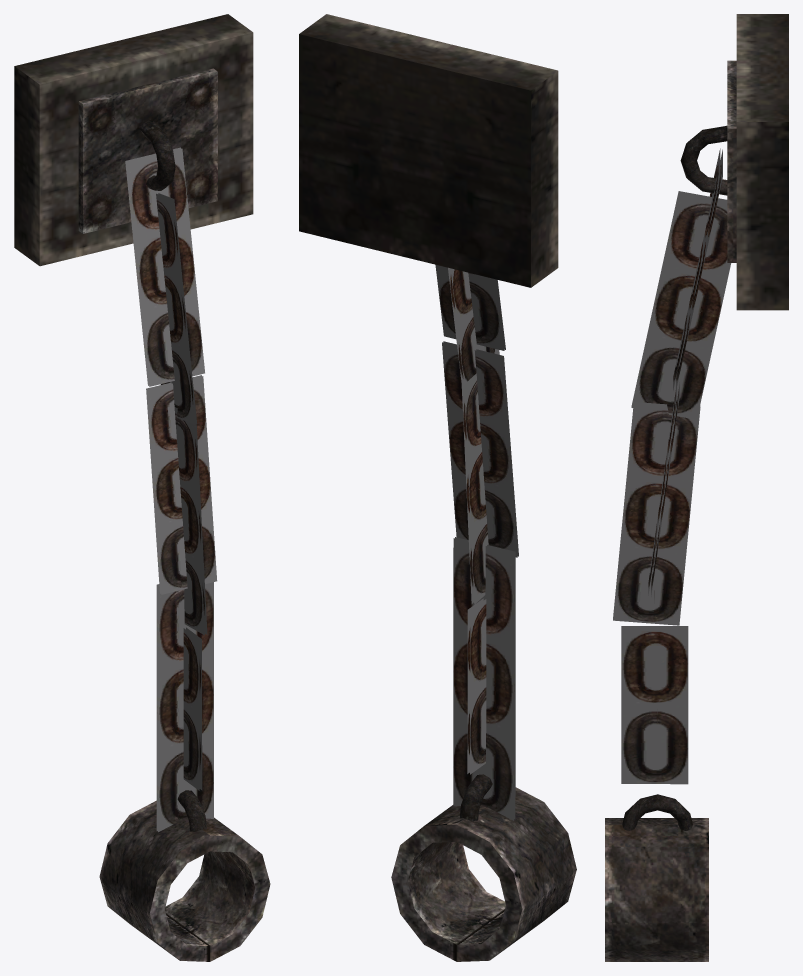
File: shackles_single.dae
3 renders of one model, left to right at view 1: azimuth 30°, elevation 25°; view 2: azimuth 150°, elevation 25°; view 3: azimuth 270°, elevation 25°, orthographic. The views are drawn at different scales.
Parts seen in each view (by area): view 1: polySurface1, lshack, lchain1, lchain2, lchain3; view 2: polySurface1, lshack, lchain3, lchain2, lchain1; view 3: polySurface1, lshack, lchain2, lchain1, lchain3.
Boxes of the visible parts, x1=… form: polySurface1: x1=14, y1=14, x2=253, y2=266; lshack: x1=99, y1=790, x2=270, y2=961; lchain1: x1=125, y1=147, x2=204, y2=424; lchain2: x1=146, y1=375, x2=217, y2=635; lchain3: x1=156, y1=582, x2=213, y2=832; polySurface1: x1=299, y1=14, x2=558, y2=287; lshack: x1=391, y1=774, x2=576, y2=961; lchain3: x1=453, y1=537, x2=515, y2=820; lchain2: x1=442, y1=341, x2=518, y2=604; lchain1: x1=435, y1=264, x2=505, y2=383; polySurface1: x1=680, y1=14, x2=788, y2=310; lshack: x1=605, y1=794, x2=708, y2=961; lchain2: x1=613, y1=382, x2=700, y2=625; lchain1: x1=631, y1=148, x2=731, y2=419; lchain3: x1=621, y1=590, x2=688, y2=784.
Bounding box in the file's own units: 0.306 × 1.17 × 0.2202.
